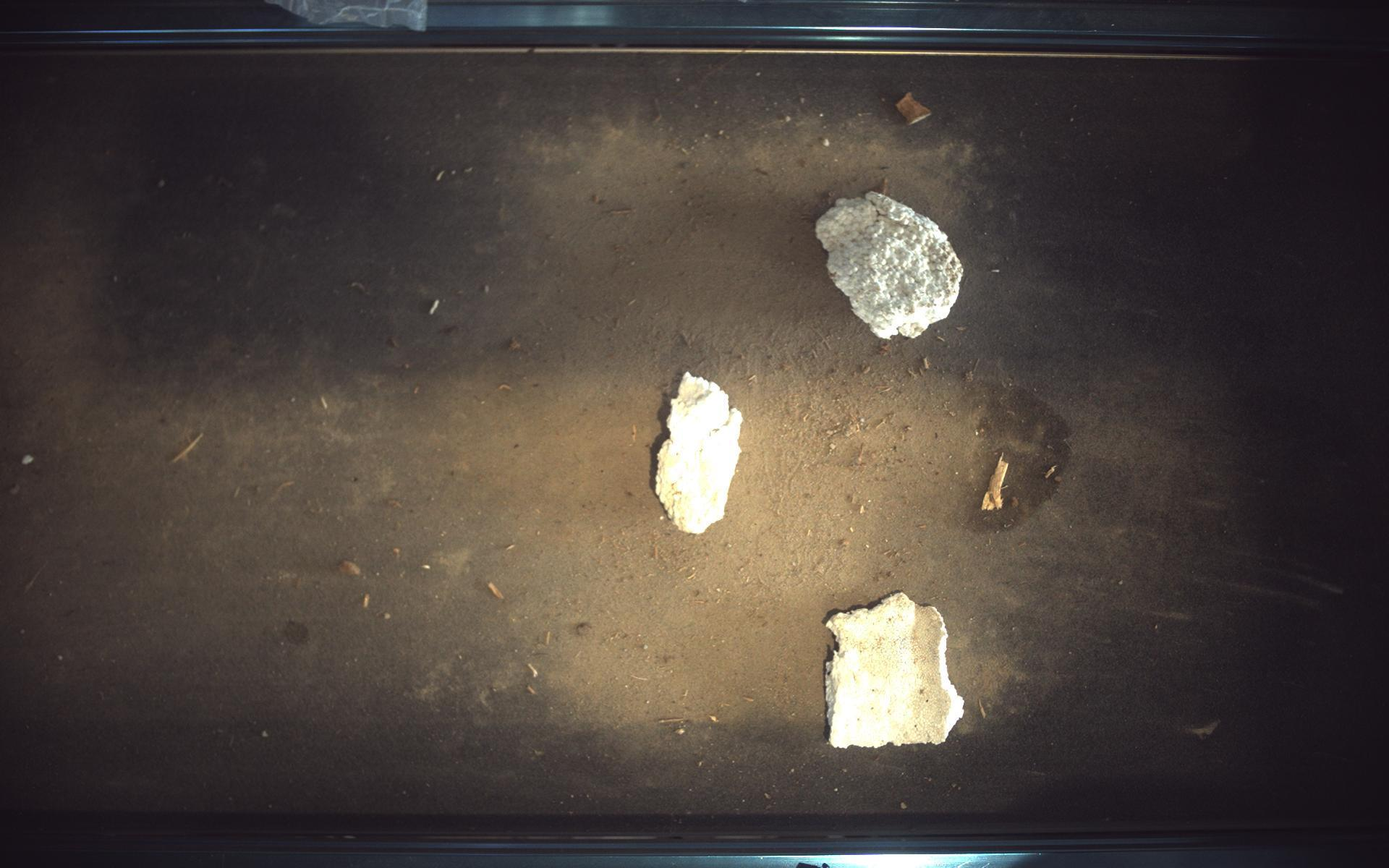foam: (817, 191, 965, 339), (827, 593, 965, 749), (656, 372, 744, 535)
